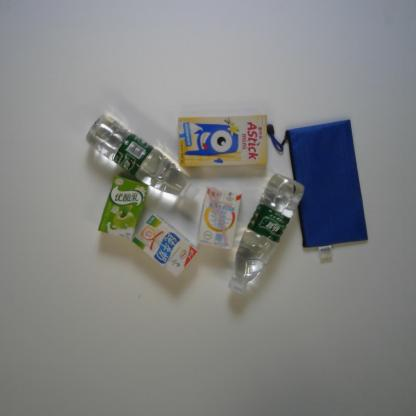Dessert: (179, 114, 268, 168)
Drink: (84, 112, 200, 202), (226, 172, 305, 296)
Milk: (132, 214, 197, 278), (96, 173, 149, 241), (196, 185, 242, 251)
Stationery: (266, 118, 369, 250)
